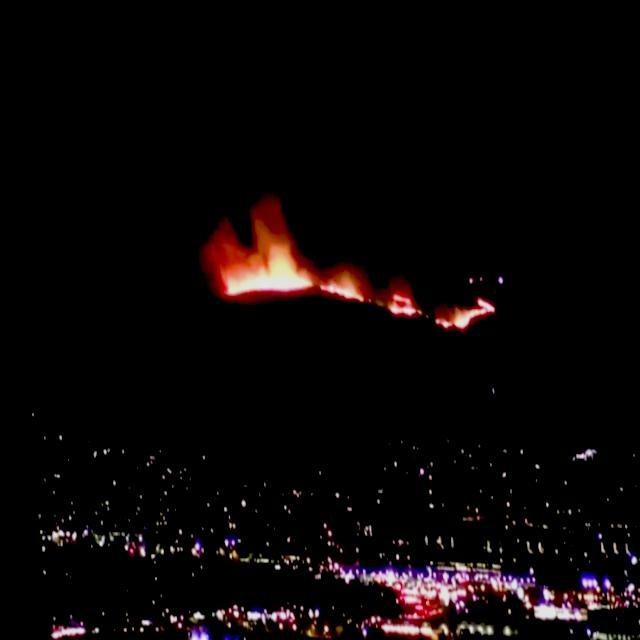Fire: (214, 188, 308, 294), (426, 280, 492, 324), (316, 258, 360, 297), (384, 280, 417, 314)
